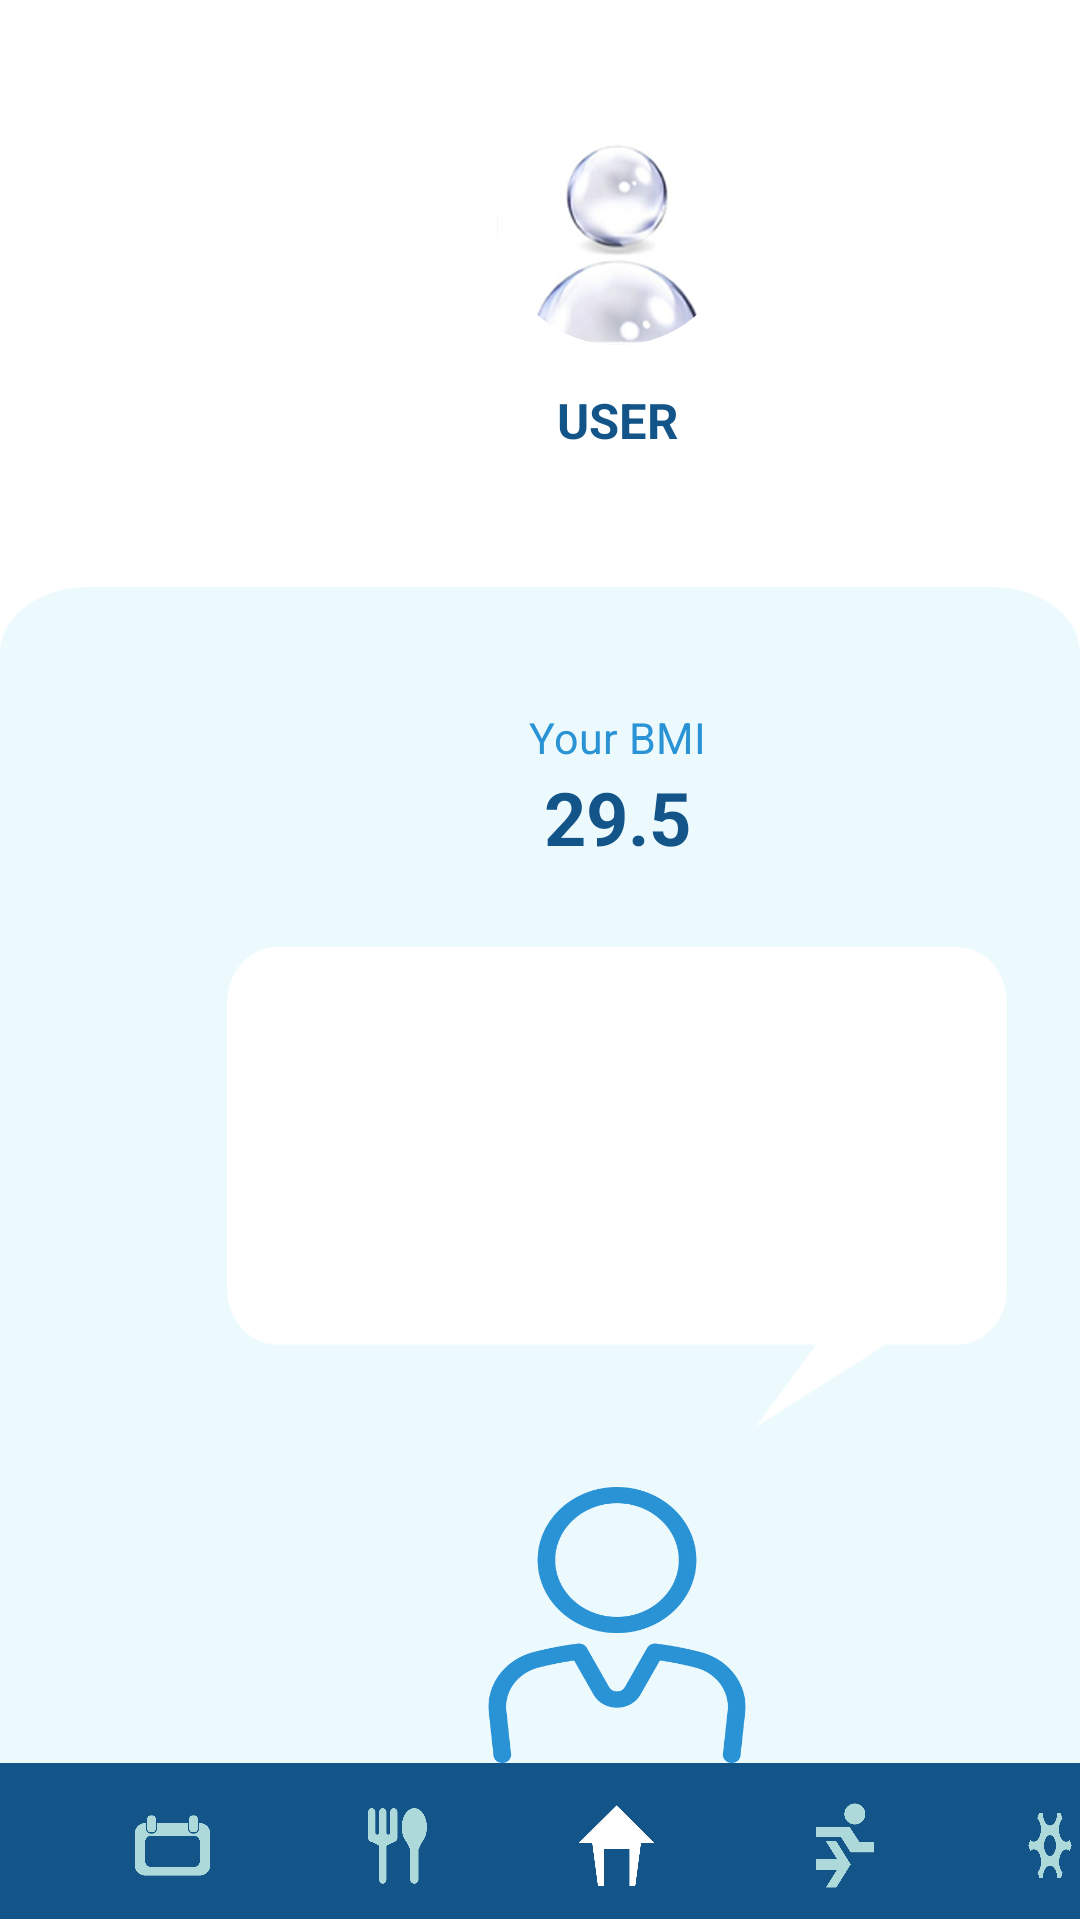

Screen size 1080w x 1920h. Icon name, then its box in pixels as bbox=[x1, y1, x2, y2]:
iconcalendar: bbox=[135, 1815, 210, 1876]
iconfood: bbox=[368, 1808, 427, 1884]
iconhealth: bbox=[816, 1803, 874, 1888]
iconhome: bbox=[579, 1805, 654, 1886]
iconhuman: bbox=[488, 1487, 746, 1763]
iconprofile: bbox=[537, 149, 697, 342]
